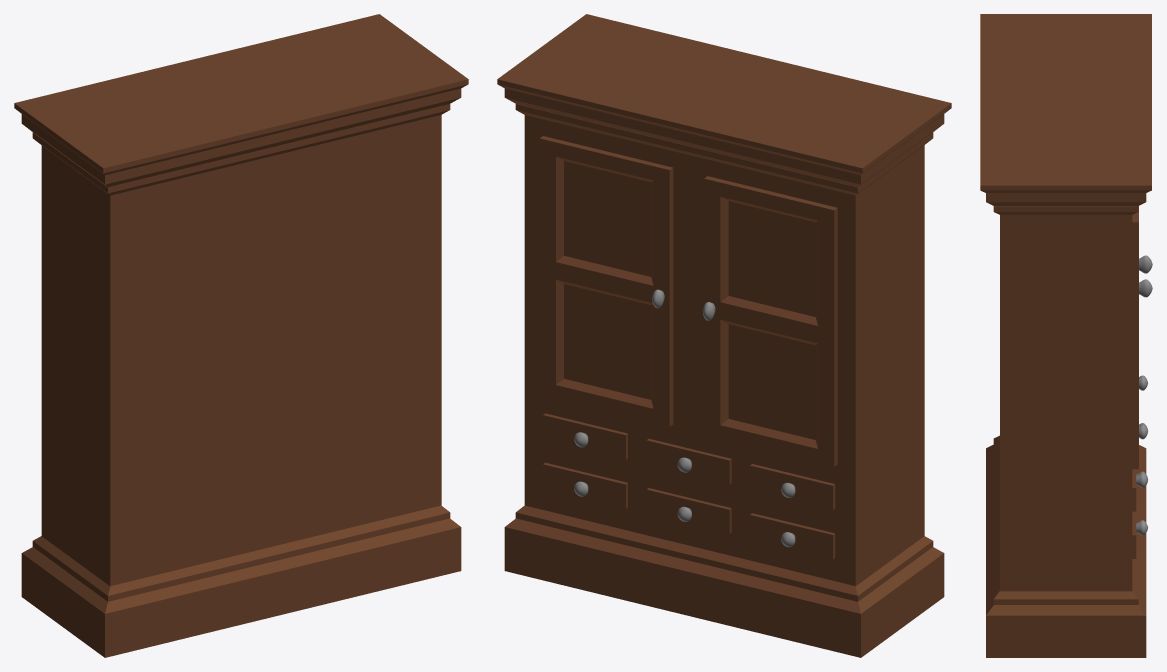
File: Armoire1_5.fbx
3 views of the same model, side by side, from view 1: azimuth 30°, elevation 25°; view 2: azimuth 150°, elevation 25°; view 3: azimuth 270°, elevation 25° (orthographic). The views are drawn at different scales.
Visible parts, largest first — view 1: pCube2399, pCube2398, pCube2402, pCube2401, pCube2400, pCube2397; view 2: pCube2399, pCube2398, pCube2422, pCube2425, pCube2402, pCube2401, pCube2400, pCube2397, pCube2417, pCube2415, pCube2418, pCube2416 (+2 smaller); view 3: pCube2399, pCube2398, pCube2402, pCube2401, pCube2400, pCube2422, pCube2397.
Boxes of the visible parts, left/top/right/bottom form: pCube2399: left=41, top=115, right=441, bottom=586; pCube2398: left=14, top=14, right=468, bottom=174; pCube2402: left=21, top=518, right=461, bottom=657; pCube2401: left=32, top=505, right=450, bottom=601; pCube2400: left=21, top=88, right=461, bottom=187; pCube2397: left=32, top=104, right=450, bottom=195; pCube2399: left=524, top=115, right=924, bottom=586; pCube2398: left=497, top=14, right=951, bottom=174; pCube2422: left=539, top=136, right=673, bottom=426; pCube2425: left=704, top=176, right=837, bottom=466; pCube2402: left=504, top=518, right=944, bottom=657; pCube2401: left=515, top=505, right=933, bottom=601; pCube2400: left=504, top=88, right=944, bottom=187; pCube2397: left=515, top=104, right=933, bottom=195; pCube2417: left=750, top=513, right=835, bottom=559; pCube2415: left=646, top=438, right=731, bottom=484; pCube2418: left=646, top=488, right=731, bottom=534; pCube2416: left=750, top=464, right=835, bottom=510; pCube2399: left=1000, top=215, right=1132, bottom=591; pCube2398: left=980, top=14, right=1151, bottom=192; pCube2402: left=986, top=444, right=1146, bottom=657; pCube2401: left=993, top=435, right=1138, bottom=604; pCube2400: left=986, top=193, right=1146, bottom=205; pCube2422: left=1132, top=206, right=1138, bottom=469; pCube2397: left=993, top=206, right=1138, bottom=214.
Bounding box in the file's own units: 91.15 × 118 × 38.72.
